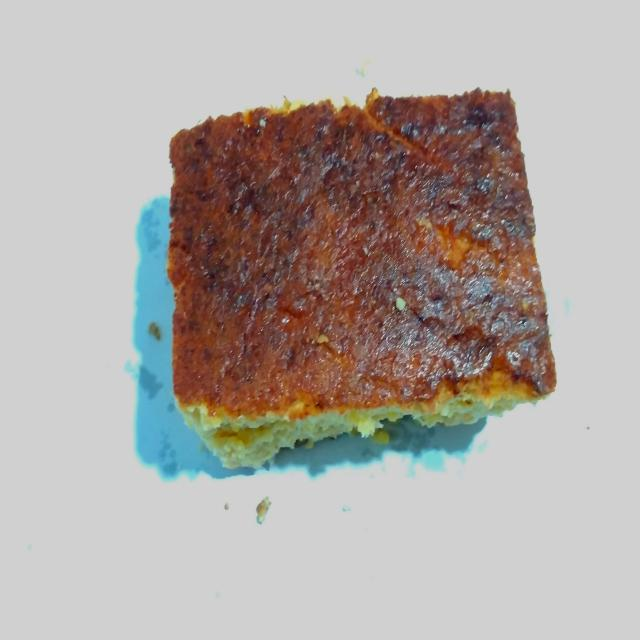Chipa_Guazu: (150, 84, 572, 472)
